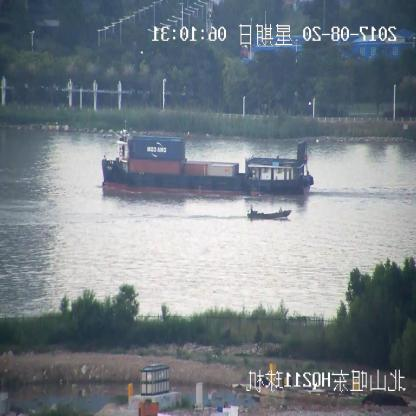Container Ship: (100, 126, 314, 196)
